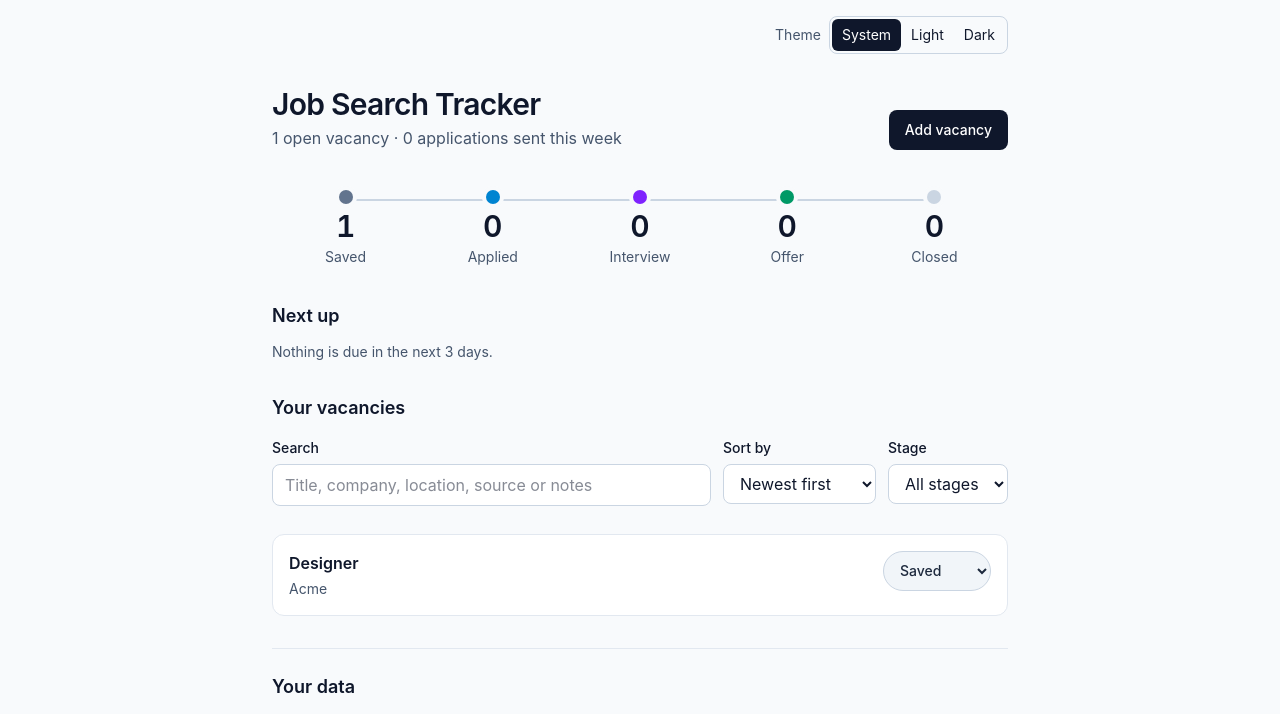
JobsPage › edits a vacancy
Click the button "Designer" at (324, 562), box [289,550,359,574]
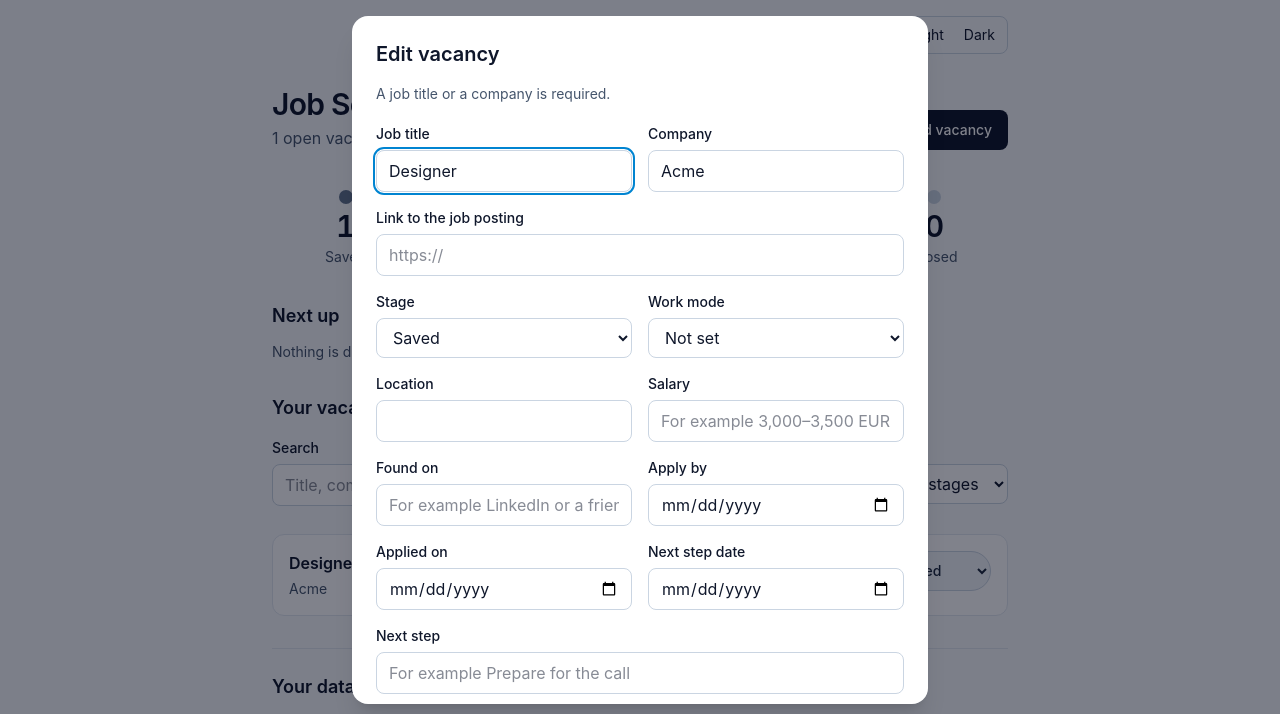
Result: the field labelled "Job title" holds "Designer"
Replace the text in the field labelled "Job title" with "Product Designer" at (504, 171), box [376,150,632,192]
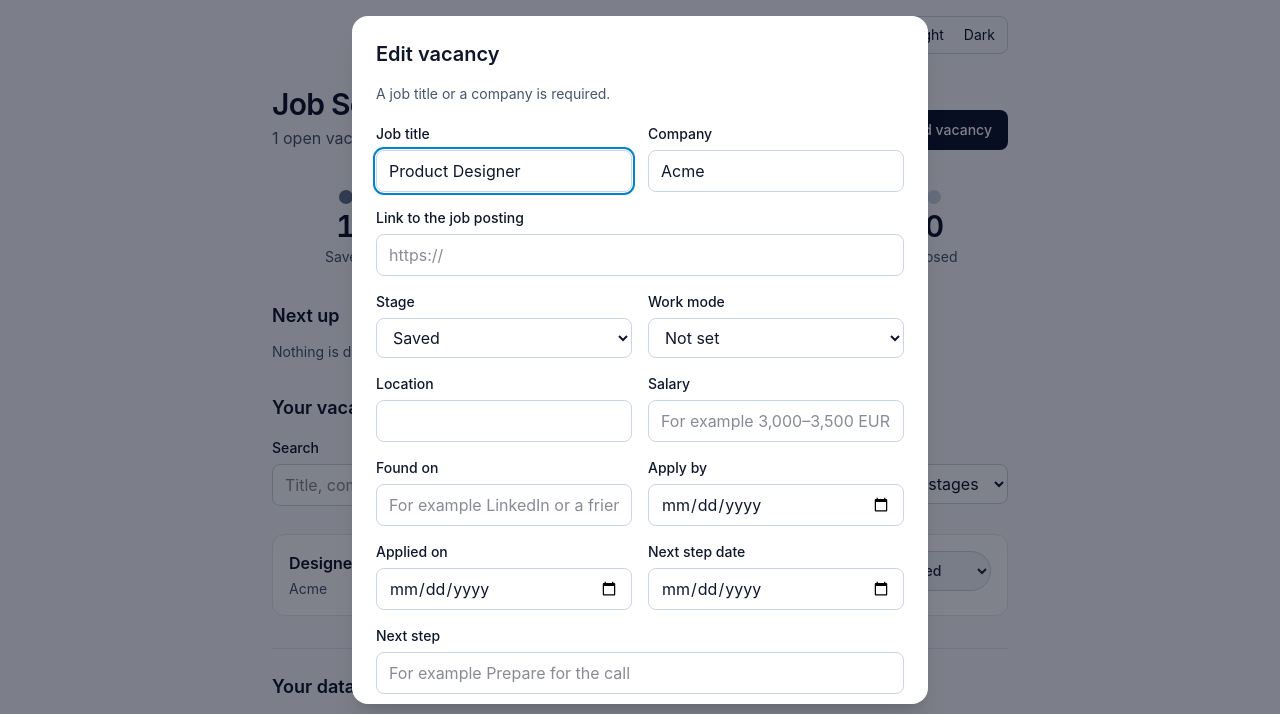
Select "Interview" in the dropdown labelled "Stage" at (504, 338), box [376,318,632,358]
(page scrolled)
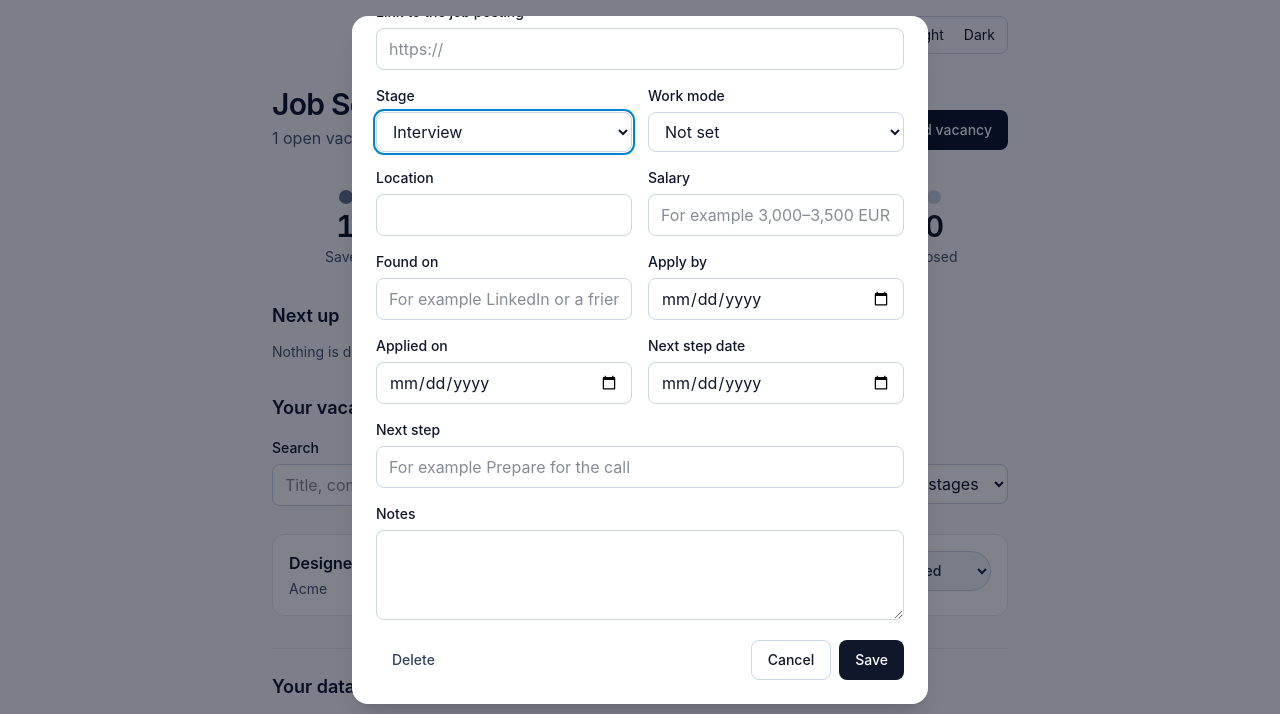
Click the button "Save" at (872, 660), box [839,640,904,680]
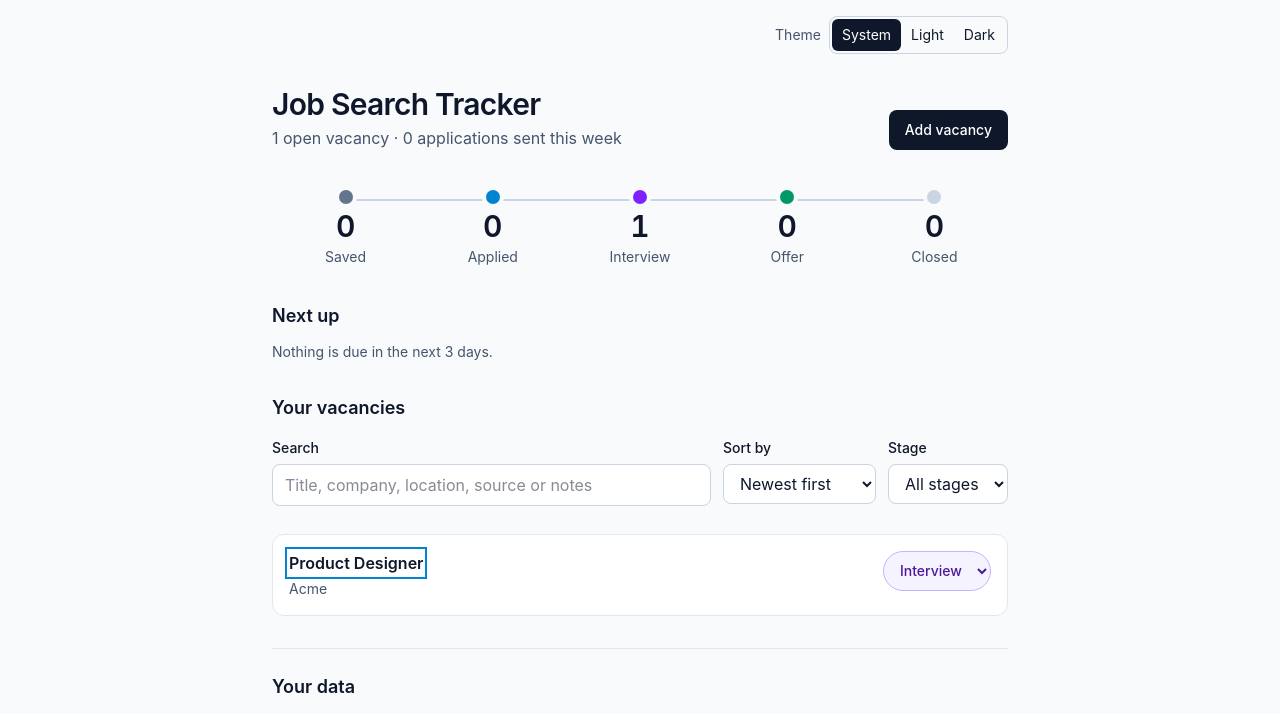
Result: the button "Product Designer" is shown at [289,550,424,574]
